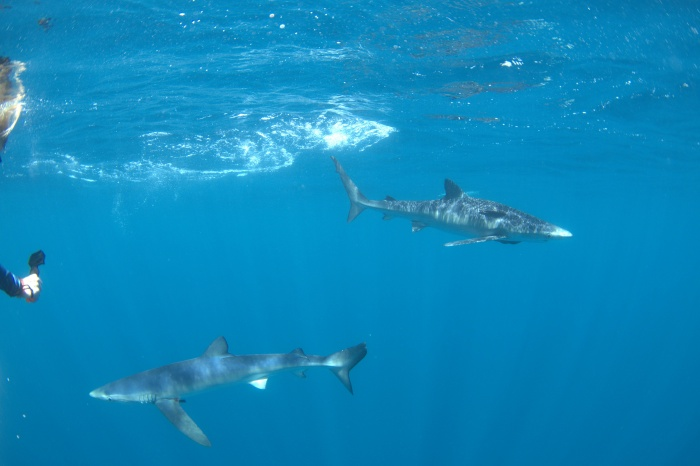Azul: (49, 318, 481, 438), (307, 114, 582, 265)
